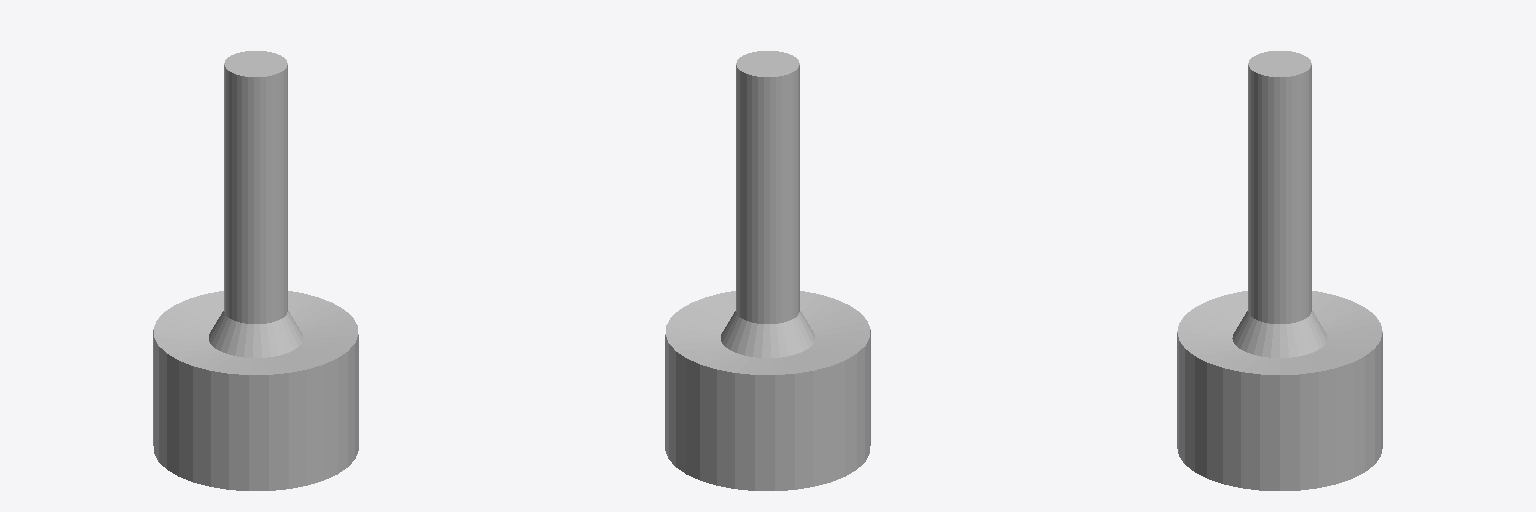
File: lamp_top.obj
3 views of the same model, side by side, from view 1: azimuth 30°, elevation 25°; view 2: azimuth 150°, elevation 25°; view 3: azimuth 270°, elevation 25° (orthographic).
Visible parts, largest first — view 1: Cylinder; view 2: Cylinder; view 3: Cylinder.
Boxes of the visible parts, x1=… form: Cylinder: x1=153, y1=51, x2=358, y2=490; Cylinder: x1=665, y1=51, x2=870, y2=490; Cylinder: x1=1177, y1=51, x2=1382, y2=490.
Bounding box in the file's own units: 0.4313 × 0.8891 × 0.4313.